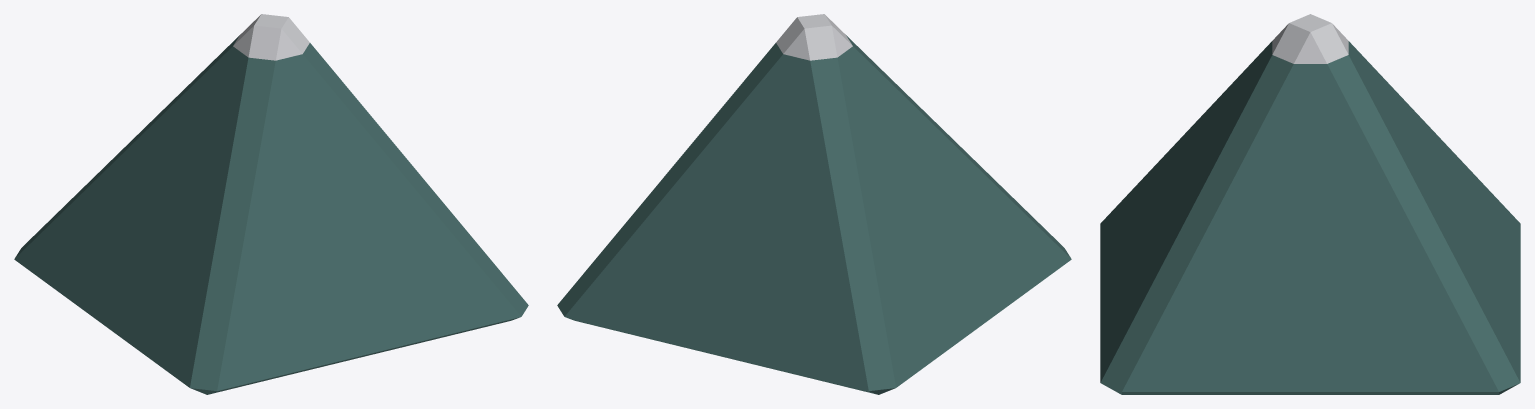
Rendered from Roof_Point_Green_01.obj.
The picture shows the model from 3 angles, left to right: view 1: azimuth 30°, elevation 25°; view 2: azimuth 150°, elevation 25°; view 3: azimuth 270°, elevation 25°; orthographic projection. The views are drawn at different scales.
Visible parts, largest first — view 1: Mesh1 Roof_Point_Green Model; view 2: Mesh1 Roof_Point_Green Model; view 3: Mesh1 Roof_Point_Green Model.
Boxes of the visible parts, x1,y1,x2,y2 form: Mesh1 Roof_Point_Green Model: (14,14,528,394); Mesh1 Roof_Point_Green Model: (557,14,1071,394); Mesh1 Roof_Point_Green Model: (1100,14,1520,394).
Bounding box in the file's own units: 3.34 × 2.56 × 3.34.
